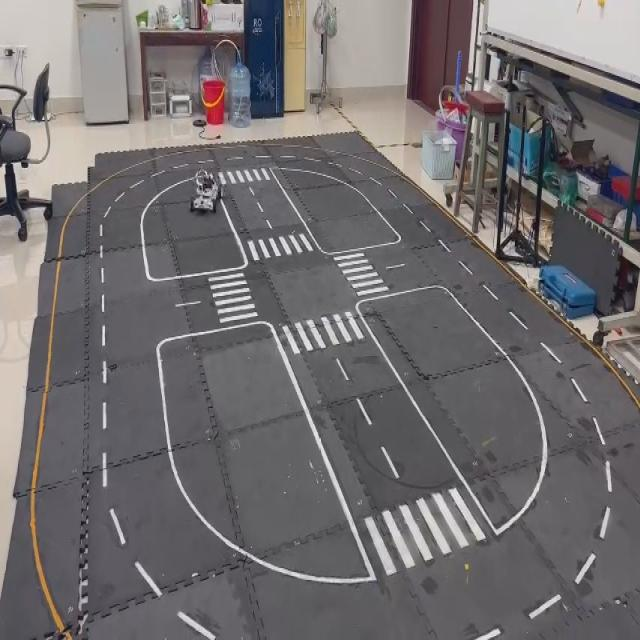SiCo-CAR: (536, 261, 596, 320), (188, 165, 223, 215)
